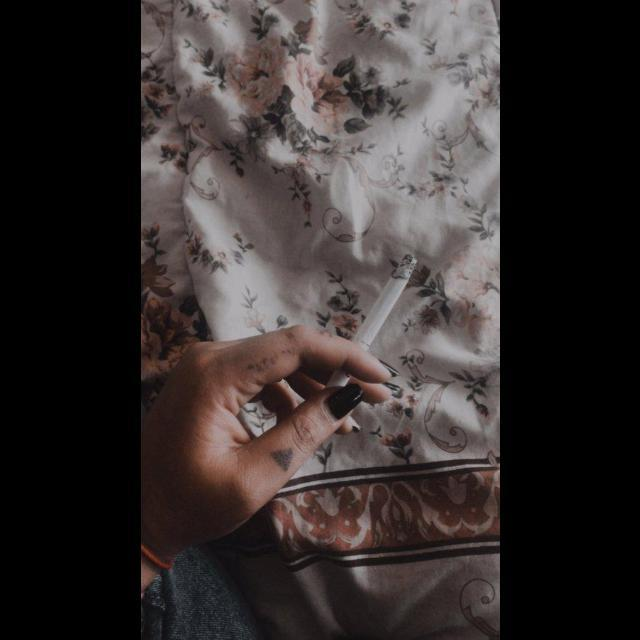rokok: (320, 248, 420, 386)
